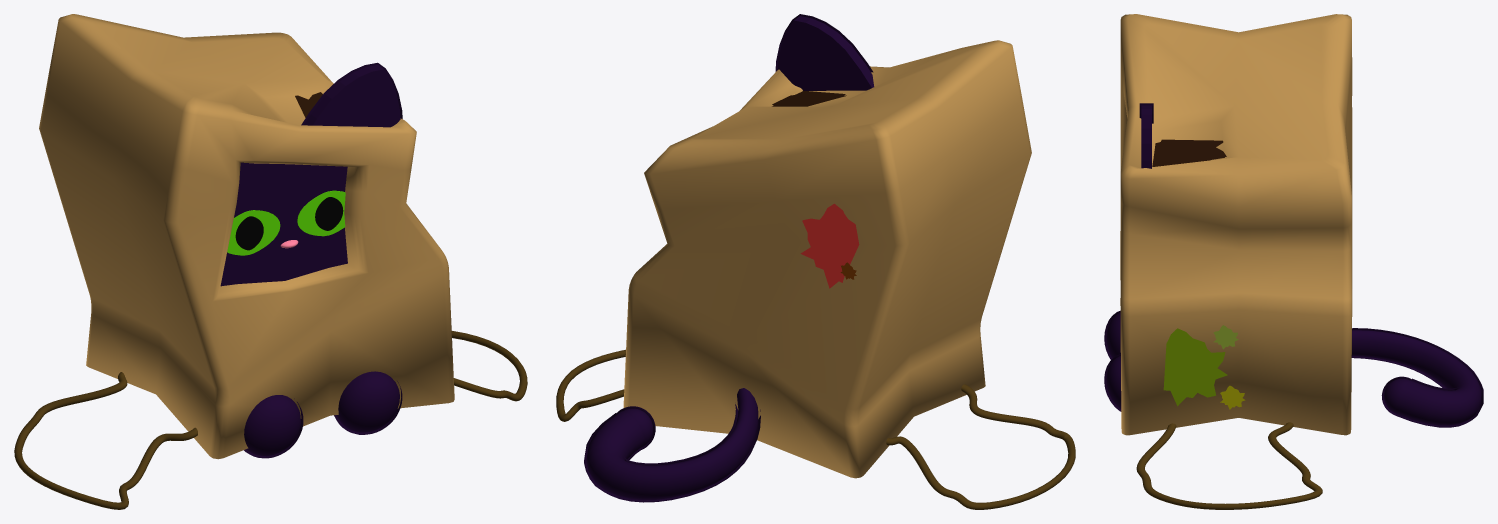
The model's file is CatInABagblend.fbx.
3 views of the same model, side by side, from view 1: azimuth 30°, elevation 25°; view 2: azimuth 150°, elevation 25°; view 3: azimuth 270°, elevation 25° (orthographic). The views are drawn at different scales.
Visible parts, largest first — view 1: BezierCurve; view 2: BezierCurve; view 3: BezierCurve.
Boxes of the visible parts, bbox=[...] form: BezierCurve: bbox=[14, 14, 527, 509]; BezierCurve: bbox=[556, 14, 1075, 509]; BezierCurve: bbox=[1104, 14, 1483, 509].
Size of the model in its own units: 271 by 208 by 211.
